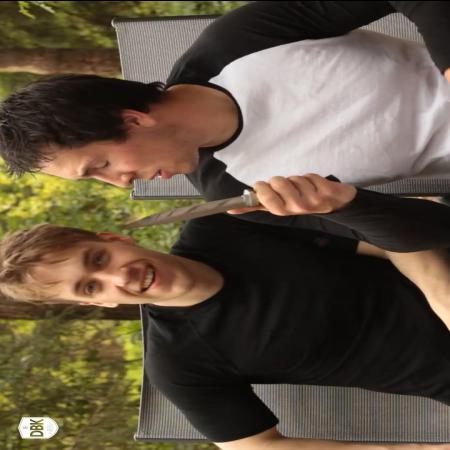long weapon: (113, 170, 321, 230)
